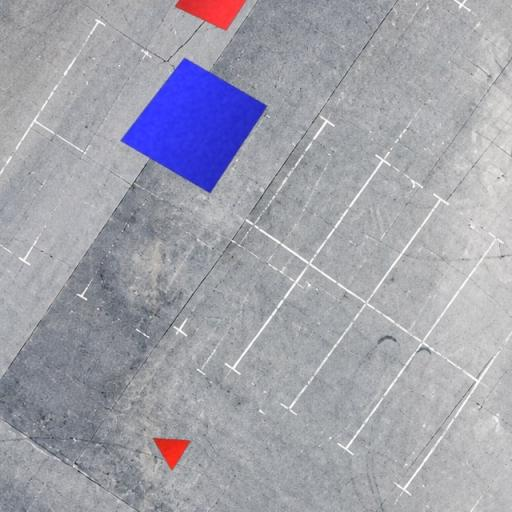BLUE_SQUARE: (119, 58, 268, 194)
RED_SQUARE: (174, 0, 255, 31)
